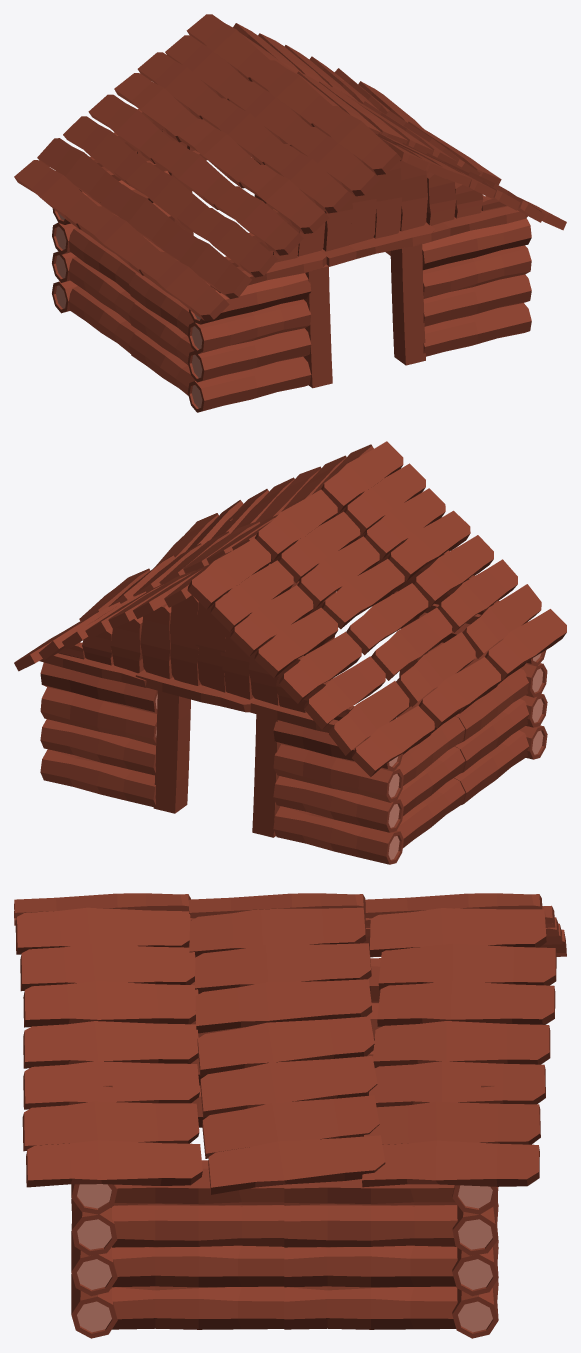
Rendered from House_1a.fbx.
3 views of the same model, one above another, from view 1: azimuth 30°, elevation 25°; view 2: azimuth 150°, elevation 25°; view 3: azimuth 270°, elevation 25° (orthographic). The views are drawn at different scales.
Parts seen in each view (by area): view 1: House_1a; view 2: House_1a; view 3: House_1a.
Boxes of the visible parts, left/top/right/bottom form: House_1a: left=14, top=14, right=566, bottom=412; House_1a: left=14, top=441, right=566, bottom=864; House_1a: left=14, top=893, right=566, bottom=1338.
Size of the model in its own units: 663 by 426 by 628.
